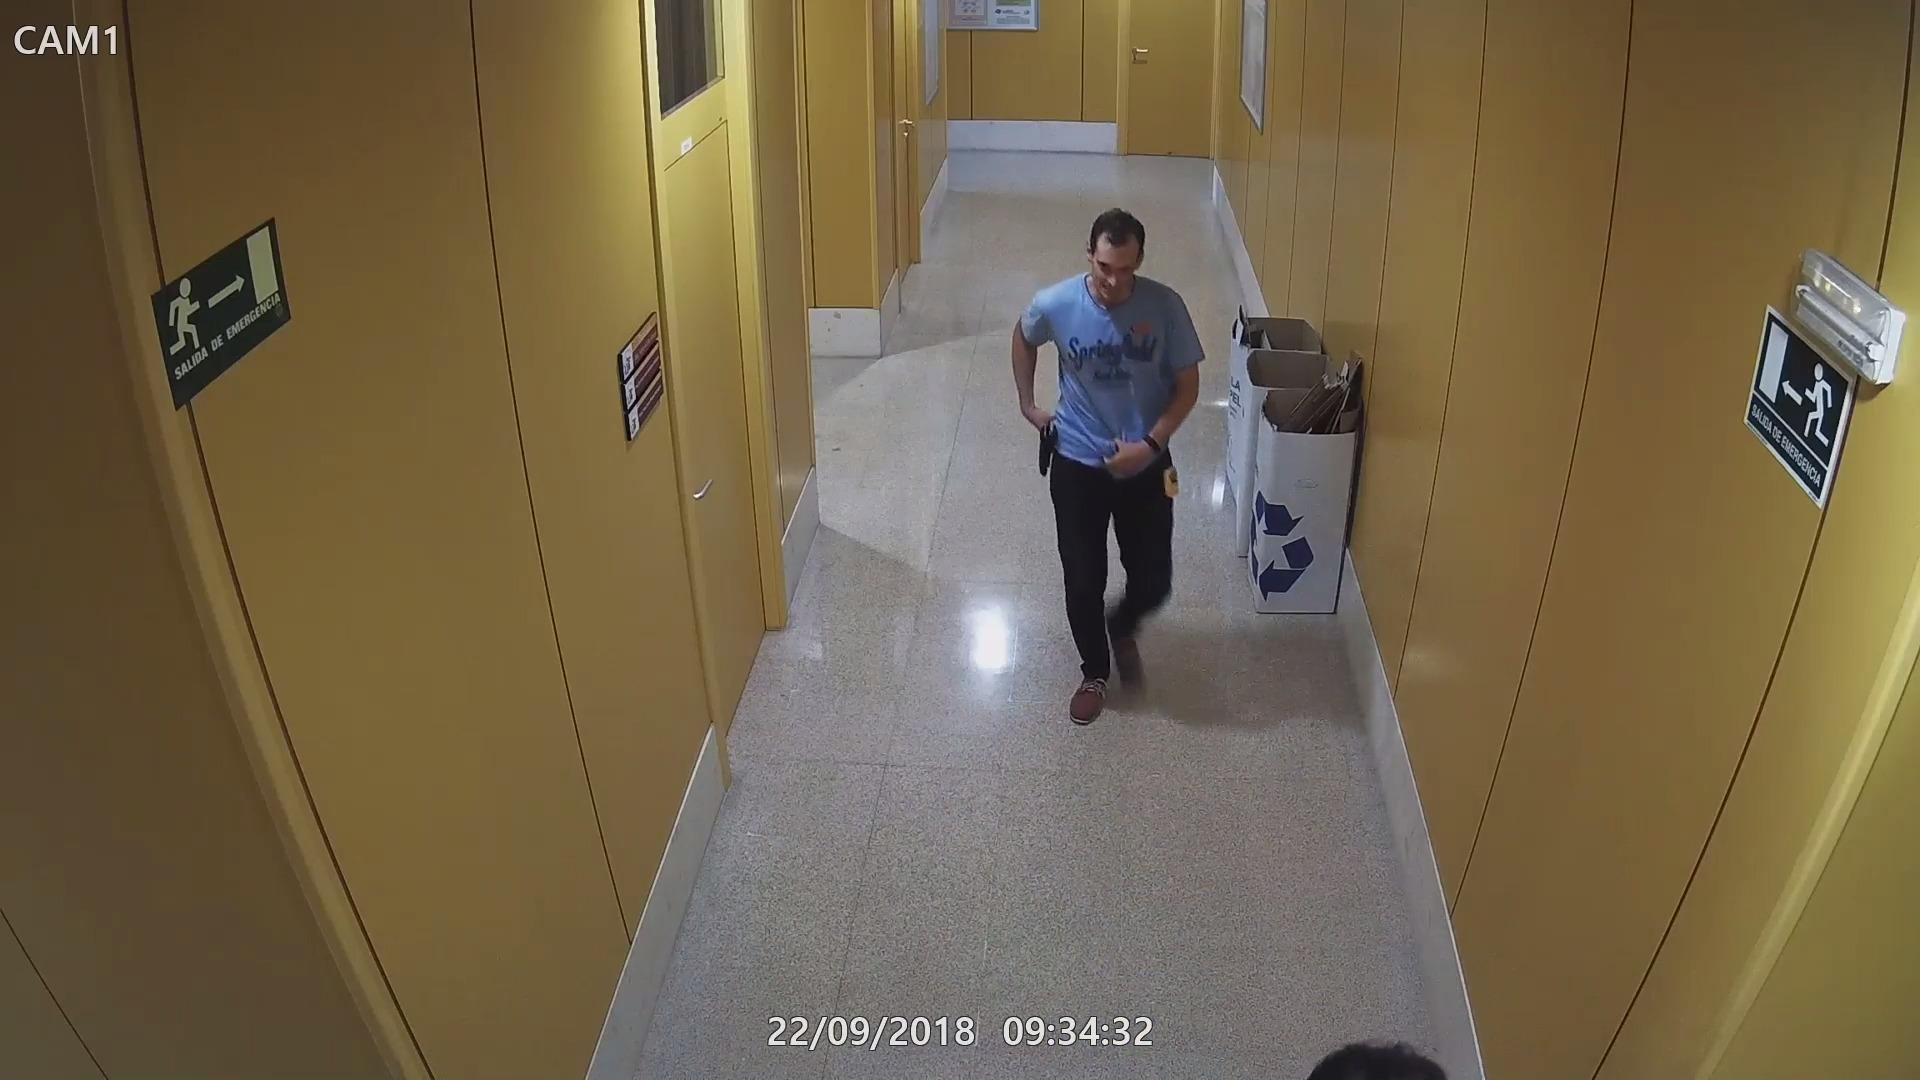Handgun: (1034, 419, 1060, 480)
